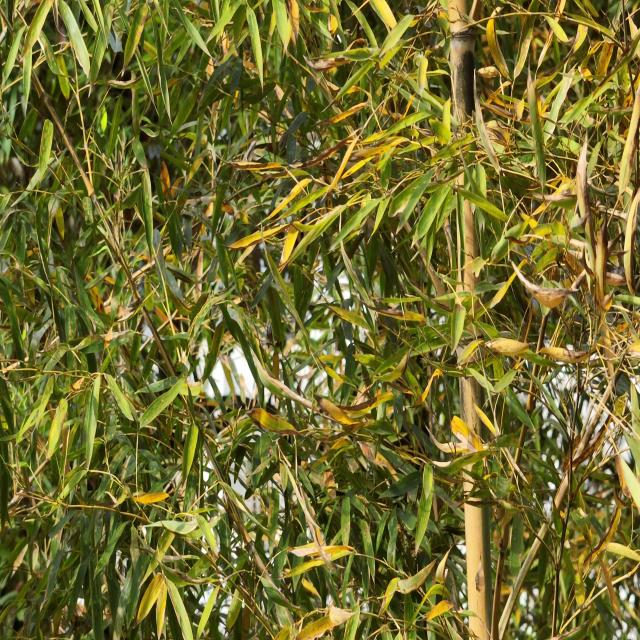Bamboo-shoots: (447, 0, 498, 640)
